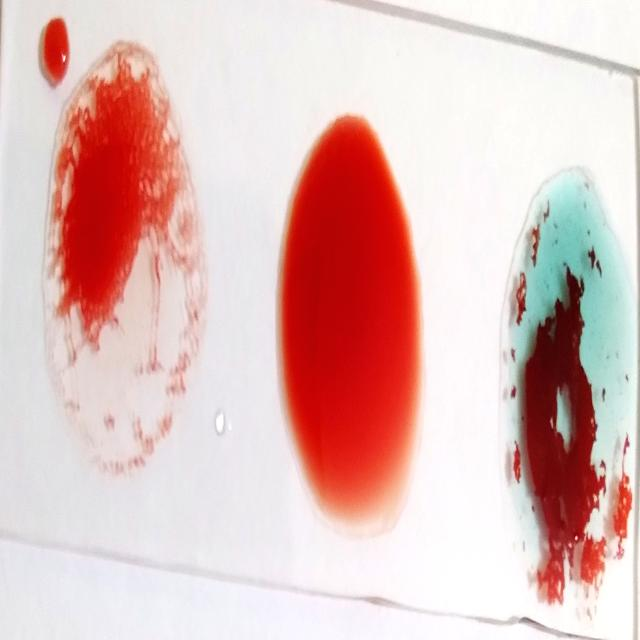A: (507, 171, 636, 613)
D: (52, 52, 202, 486)
